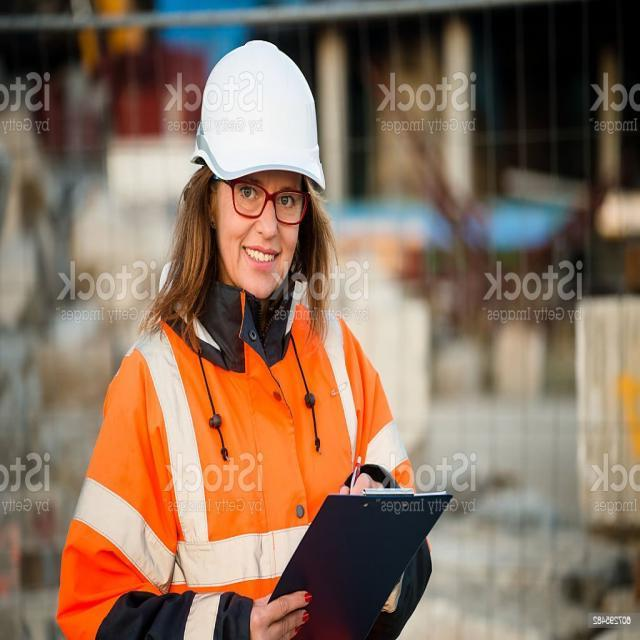safetyhelmet: (172, 37, 326, 251)
